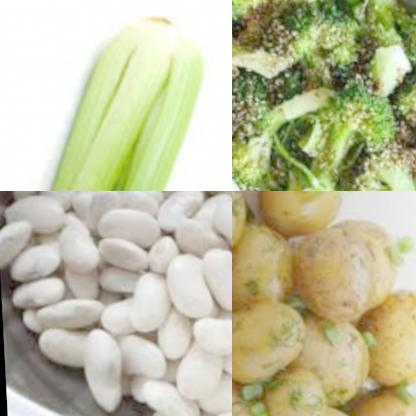beans: (0, 191, 232, 416)
broccoli: (232, 0, 416, 191)
celery: (0, 4, 224, 191)
potato: (296, 222, 407, 320), (232, 205, 307, 312), (232, 297, 310, 380), (357, 293, 416, 392), (309, 311, 372, 402), (258, 362, 328, 416), (261, 191, 345, 236), (341, 374, 416, 416)
